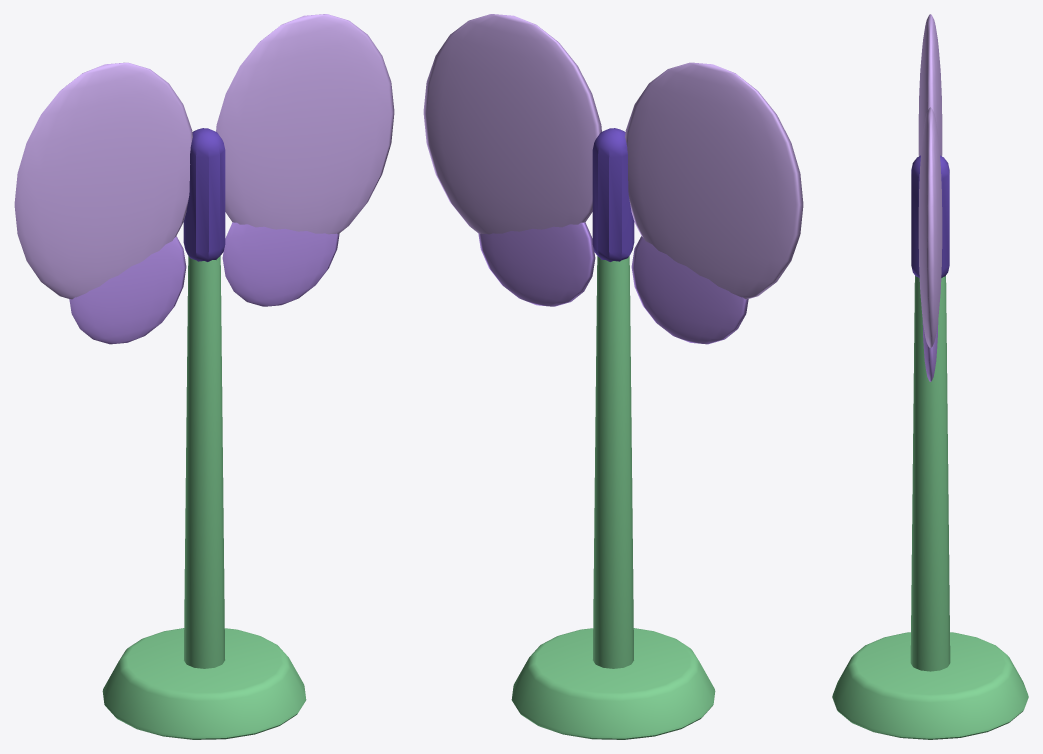
File: object-butterfly-lamp.glb
3 views of the same model, side by side, from view 1: azimuth 30°, elevation 25°; view 2: azimuth 150°, elevation 25°; view 3: azimuth 270°, elevation 25° (orthographic). The views are drawn at different scales.
Visible parts, largest first — view 1: part-wing-left-mesh, part-wing-right-mesh, Node_0-mesh; view 2: part-wing-left-mesh, part-wing-right-mesh, Node_0-mesh; view 3: Node_0-mesh, part-wing-right-mesh, part-wing-left-mesh.
Part boxes in pixels (box(x1,y1,x2,y2)): part-wing-left-mesh: box(14, 62, 192, 344); part-wing-right-mesh: box(216, 14, 394, 306); Node_0-mesh: box(102, 128, 306, 739); part-wing-left-mesh: box(625, 62, 803, 344); part-wing-right-mesh: box(423, 14, 601, 306); Node_0-mesh: box(511, 128, 715, 739); Node_0-mesh: box(832, 155, 1028, 739); part-wing-right-mesh: box(918, 107, 942, 381); part-wing-left-mesh: box(918, 14, 942, 155).
Size of the model in its own units: 0.84 by 1.39 by 0.3919.
